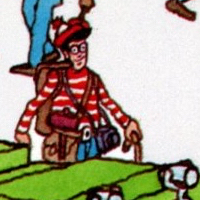waldo: (66, 21, 89, 68)
